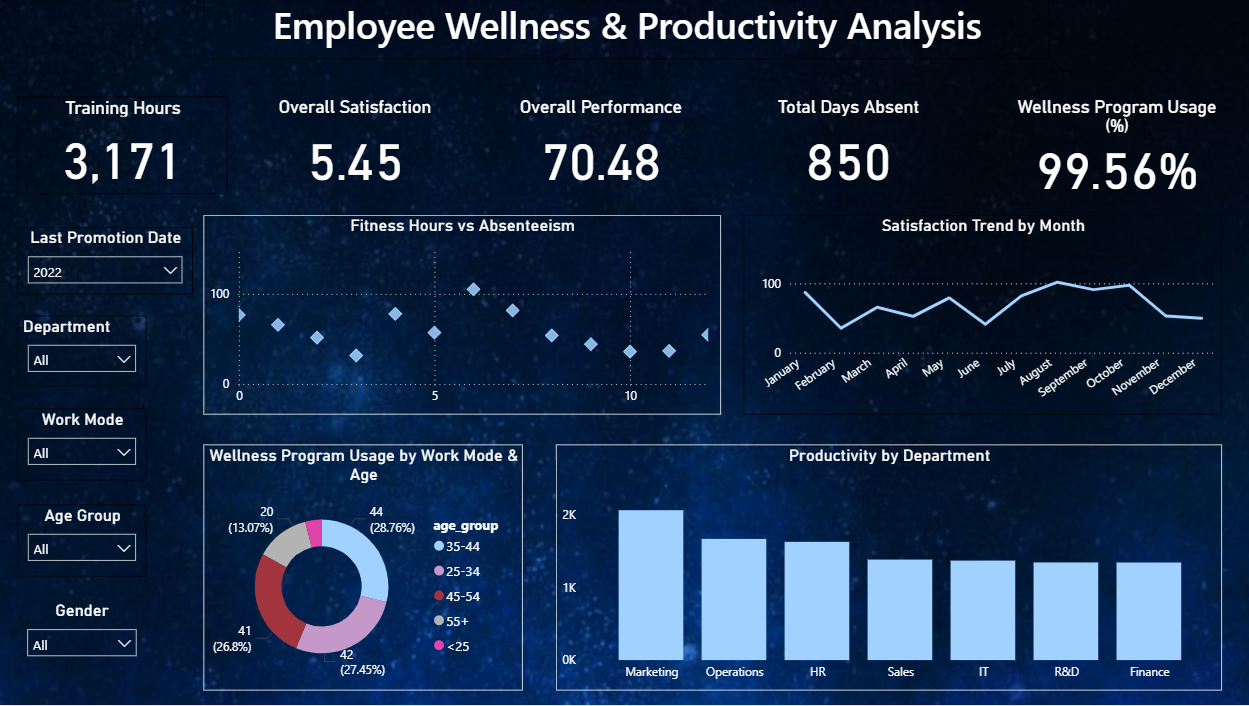

What the dashboard file says about the page in this screenshot:
{"tool":"powerbi","page":{"name":"Page 3","canvas":[1280,720],"ordinal":0},"visuals":[{"type":"textbox","title":"Employee Wellness &  Productivity Analysis","box":[209.4,0,862.2,61.1],"z":0},{"type":"card","title":" Training Hours","fields":{"Values":["Sum(EmployeeWellness.training_hours)"]},"box":[19.9,99.4,214,99.4],"z":1000},{"type":"card","title":"Overall Satisfaction","fields":{"Values":["Avg(EmployeeWellness.satisfaction_level)"]},"box":[256.8,99.4,214,99.4],"z":2000},{"type":"card","title":"Overall Performance","fields":{"Values":["Avg(EmployeeWellness.productivity_score)"]},"box":[507.5,99.4,214,99.4],"z":3000},{"type":"card","title":"Total Days Absent","fields":{"Values":["Sum(EmployeeWellness.absenteeism_days)"]},"box":[759.7,99.4,214,99.4],"z":4000},{"type":"card","title":"Wellness Program Usage (%)","fields":{"Values":["Min(EmployeeWellness.% Employees Using Wellness Programs Text)"]},"box":[1033.4,99.4,214,99.4],"z":5000},{"type":"slicer","title":"Department","fields":{"Values":["EmployeeWellness.department"]},"box":[19.9,322.5,131.5,71.8],"z":6000},{"type":"slicer","title":"Gender","fields":{"Values":["EmployeeWellness.gender"]},"box":[19.9,613,131.5,73.4],"z":7000},{"type":"slicer","title":"Age Group","fields":{"Values":["EmployeeWellness.age_group"]},"box":[19.9,515.2,131.5,73.4],"z":8000},{"type":"slicer","title":"Work Mode","fields":{"Values":["EmployeeWellness.work_mode"]},"box":[19.9,417.3,131.5,73.4],"z":9000},{"type":"columnChart","title":"Productivity by Department","fields":{"Category":["EmployeeWellness.department"],"Y":["Sum(EmployeeWellness.productivity_score)"]},"box":[568.7,454,678.7,250.7],"z":10000},{"type":"scatterChart","title":"Fitness Hours vs Absenteeism","fields":{"Y":["Sum(EmployeeWellness.fitness_activity_hours)"],"X":["EmployeeWellness.absenteeism_days"]},"box":[209.4,220.1,527.4,203.3],"z":11000},{"type":"lineChart","title":"Satisfaction Trend by Month","fields":{"Y":["Sum(EmployeeWellness.satisfaction_level)"],"Category":["EmployeeWellness.last_promotion_date.Variation.Date Hierarchy.Month"]},"box":[759.7,220.1,487.6,203.3],"z":12000},{"type":"donutChart","title":"Wellness Program Usage by Work Mode & Age","fields":{"Y":["CountNonNull(EmployeeWellness.% Employees Using Wellness Programs Text)"],"Category":["EmployeeWellness.work_mode","EmployeeWellness.age_group"]},"box":[209.4,454,325.6,250.7],"z":13000},{"type":"slicer","title":"Last Promotion Date","fields":{"Values":["EmployeeWellness.last_promotion_date.Variation.Date Hierarchy.Year","EmployeeWellness.last_promotion_date.Variation.Date Hierarchy.Quarter","EmployeeWellness.last_promotion_date.Variation.Date Hierarchy.Month"]},"box":[19.9,232.4,178.9,68.8],"z":14000}]}

Visuals, with their boxes in screenshot pixels (x1, y1, x2, y2), scaled from the page's 1280x720 canvas onto the 1249x706 screenshot:
"Employee Wellness &  Productivity Analysis" textbox: {"left": 204, "top": 0, "right": 1046, "bottom": 60}
" Training Hours" card: {"left": 19, "top": 97, "right": 228, "bottom": 195}
"Overall Satisfaction" card: {"left": 251, "top": 97, "right": 459, "bottom": 195}
"Overall Performance" card: {"left": 495, "top": 97, "right": 704, "bottom": 195}
"Total Days Absent" card: {"left": 741, "top": 97, "right": 950, "bottom": 195}
"Wellness Program Usage (%)" card: {"left": 1008, "top": 97, "right": 1217, "bottom": 195}
"Department" slicer: {"left": 19, "top": 316, "right": 148, "bottom": 387}
"Gender" slicer: {"left": 19, "top": 601, "right": 148, "bottom": 673}
"Age Group" slicer: {"left": 19, "top": 505, "right": 148, "bottom": 577}
"Work Mode" slicer: {"left": 19, "top": 409, "right": 148, "bottom": 481}
"Productivity by Department" columnChart: {"left": 555, "top": 445, "right": 1217, "bottom": 691}
"Fitness Hours vs Absenteeism" scatterChart: {"left": 204, "top": 216, "right": 719, "bottom": 415}
"Satisfaction Trend by Month" lineChart: {"left": 741, "top": 216, "right": 1217, "bottom": 415}
"Wellness Program Usage by Work Mode & Age" donutChart: {"left": 204, "top": 445, "right": 522, "bottom": 691}
"Last Promotion Date" slicer: {"left": 19, "top": 228, "right": 194, "bottom": 295}
